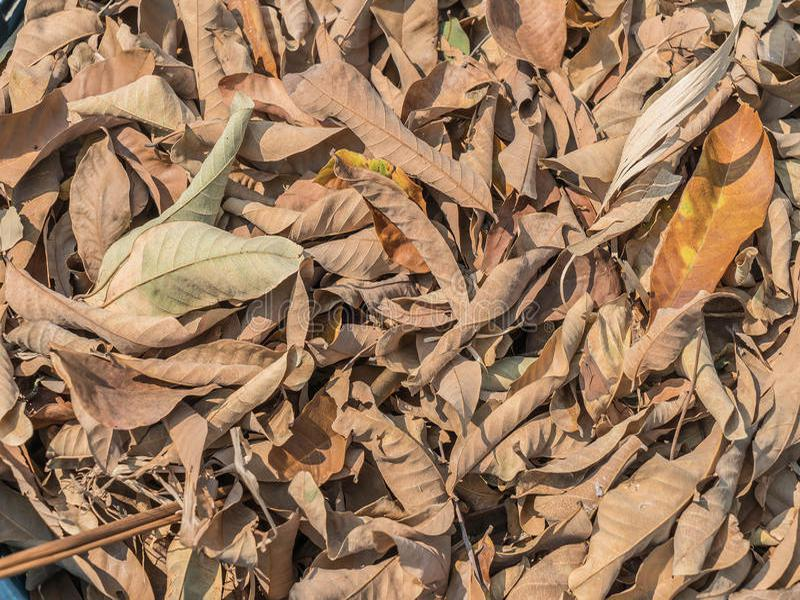leaf: (276, 53, 504, 221), (443, 286, 597, 498), (645, 98, 778, 332), (565, 420, 724, 600), (323, 149, 472, 320), (90, 214, 308, 316), (283, 474, 465, 593), (43, 344, 224, 434), (105, 336, 319, 392), (617, 286, 715, 393), (72, 124, 135, 284), (394, 58, 510, 134), (63, 71, 197, 130)
